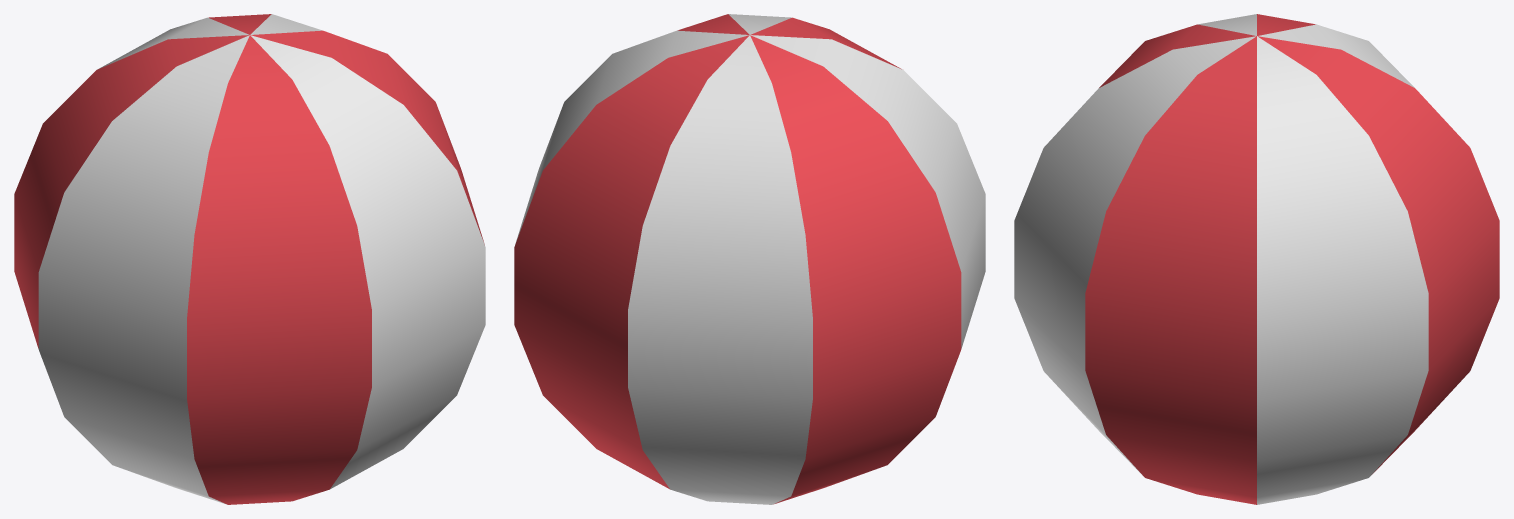
The model's file is BeachBall 1.fbx.
The picture shows the model from 3 angles, left to right: view 1: azimuth 30°, elevation 25°; view 2: azimuth 150°, elevation 25°; view 3: azimuth 270°, elevation 25°; orthographic projection.
Visible parts, largest first — view 1: Sphere.002, Sphere.001; view 2: Sphere.001, Sphere.002; view 3: Sphere.001, Sphere.002.
Part boxes in pixels (x1,y1,x2,y2): Sphere.002: (38, 14, 485, 504); Sphere.001: (14, 14, 484, 504); Sphere.001: (514, 14, 961, 504); Sphere.002: (515, 14, 985, 504); Sphere.001: (1085, 14, 1499, 504); Sphere.002: (1014, 14, 1428, 504).
Size of the model in its own units: 45.14 by 45.83 by 45.14.
